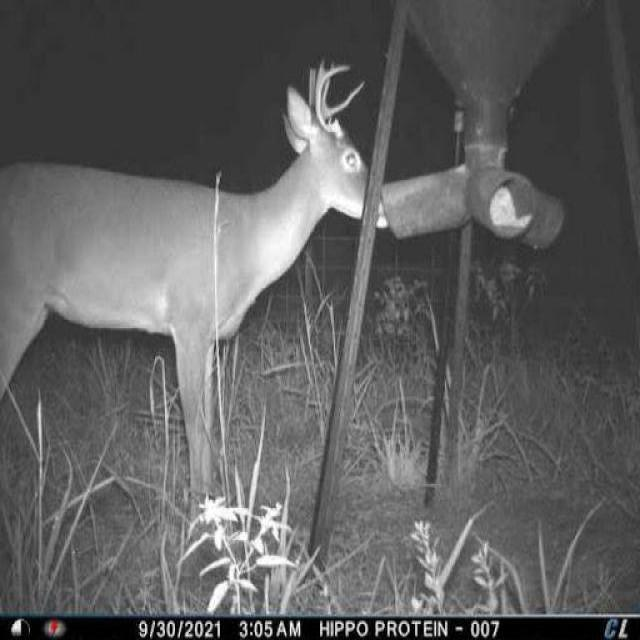deer: (0, 50, 380, 534)
